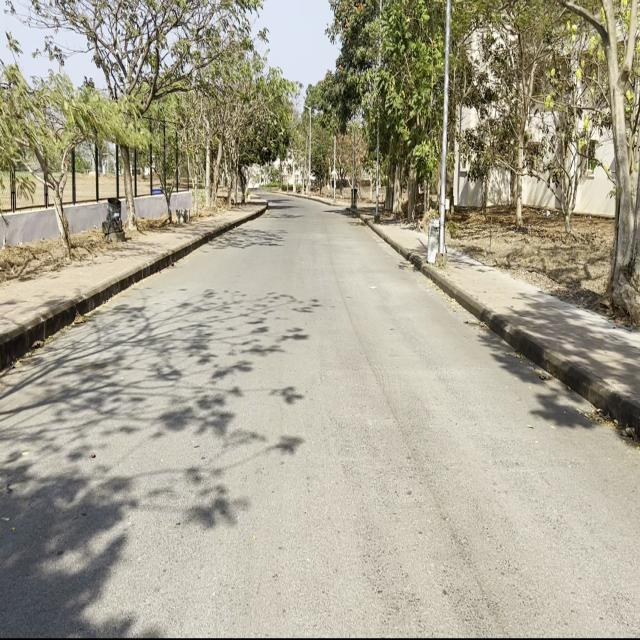Road: (6, 195, 638, 628)
